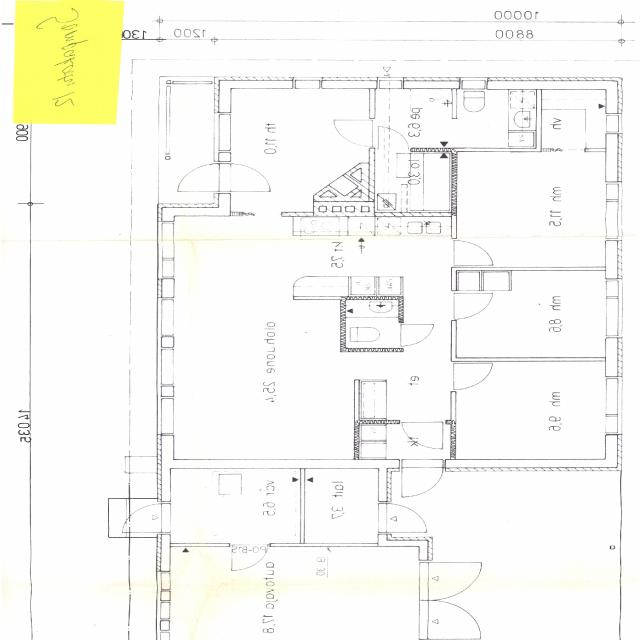door: (420, 601, 486, 640), (420, 562, 486, 601), (403, 460, 444, 500), (174, 164, 232, 192), (215, 164, 272, 192), (117, 503, 172, 532), (378, 503, 432, 532), (401, 420, 443, 453), (451, 363, 496, 392), (451, 292, 494, 320), (331, 118, 374, 146), (451, 240, 492, 265), (232, 543, 268, 571), (399, 324, 435, 347), (378, 126, 408, 150)
